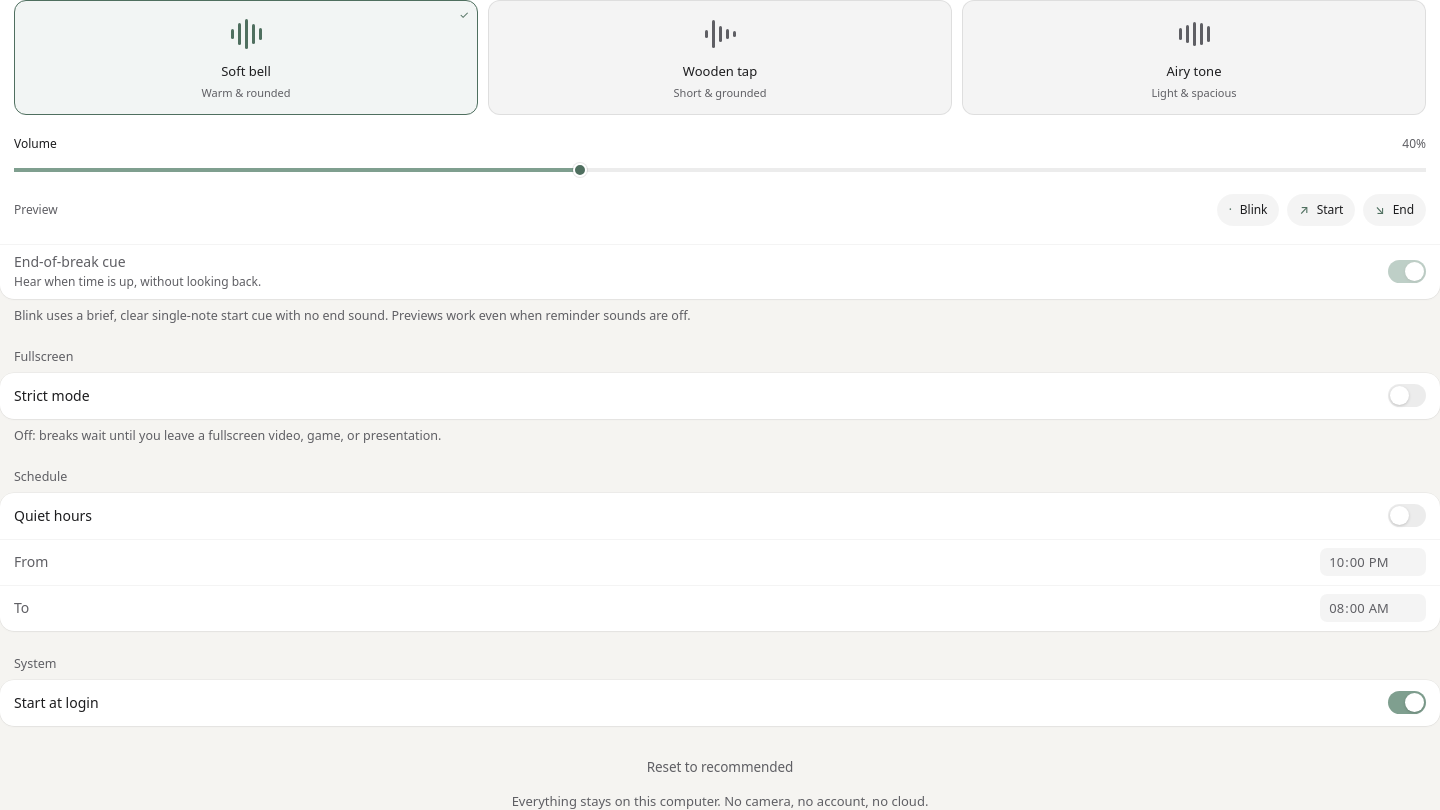
Test case: SettingsPanel › says so when the OS refuses the autostart change
(page scrolled)
Step 1. Click the switch with test id "settings-autostart" → (1407, 703), box [1388,691,1426,714]
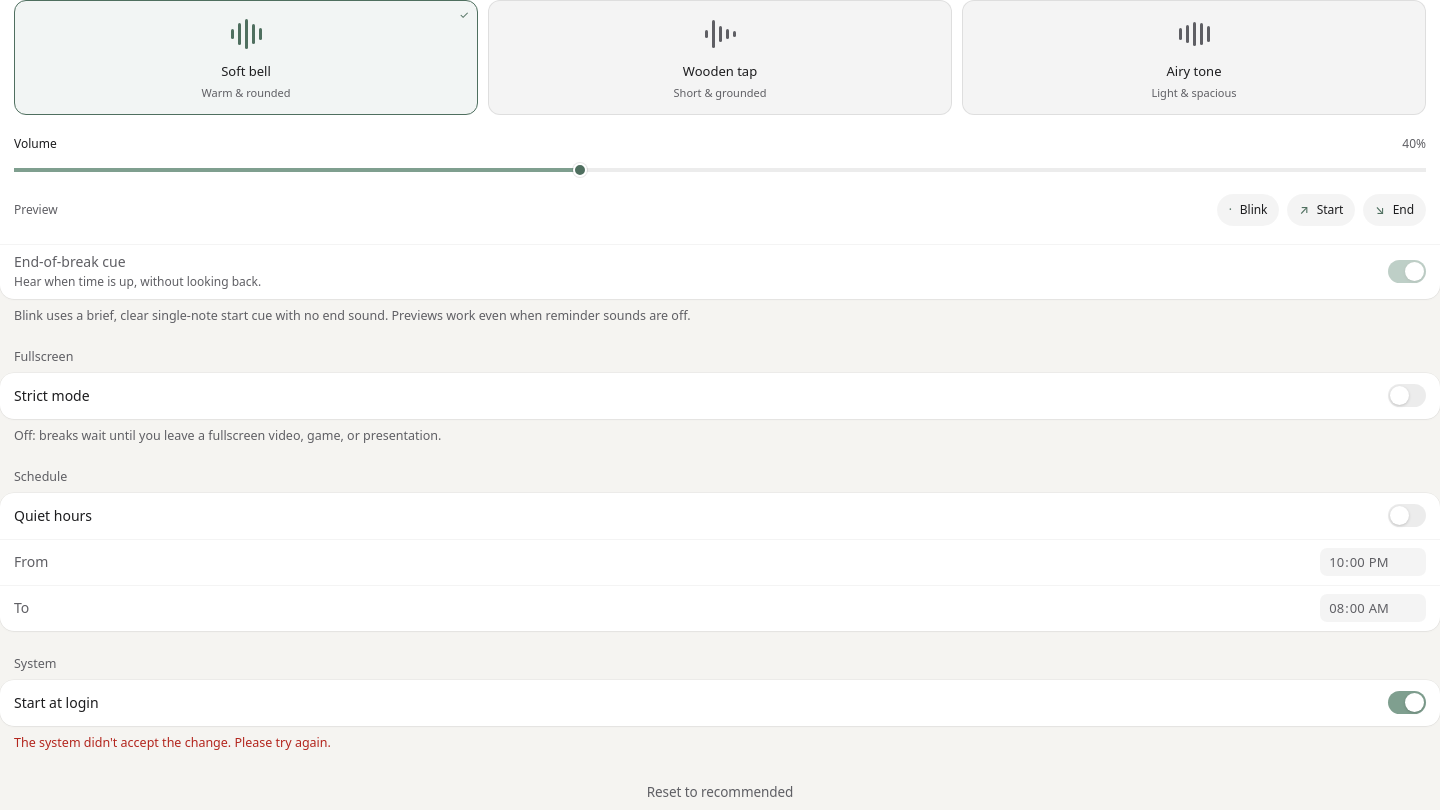
Result: the message with test id "settings-autostart-error" shows "system didn't accept" at [14,734,331,751]
